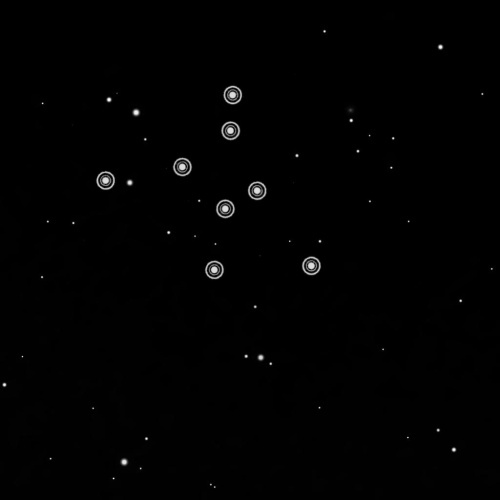hercules: (93, 82, 326, 281)
